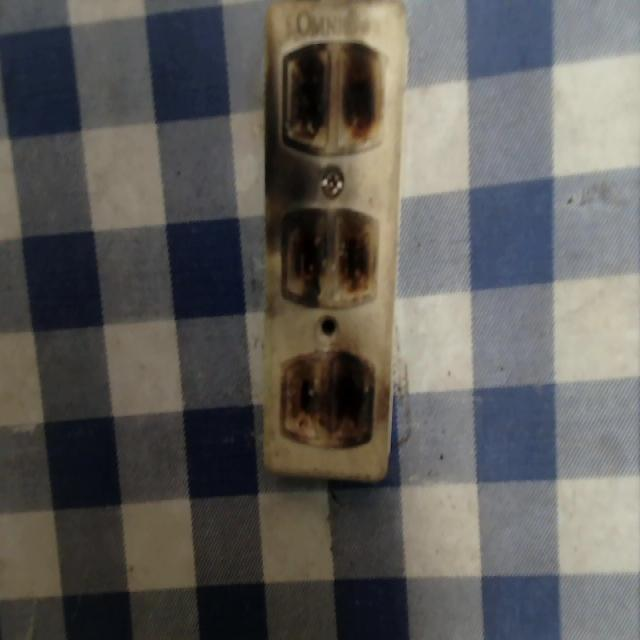-: (280, 36, 385, 152), (276, 201, 380, 311), (278, 347, 379, 449)
